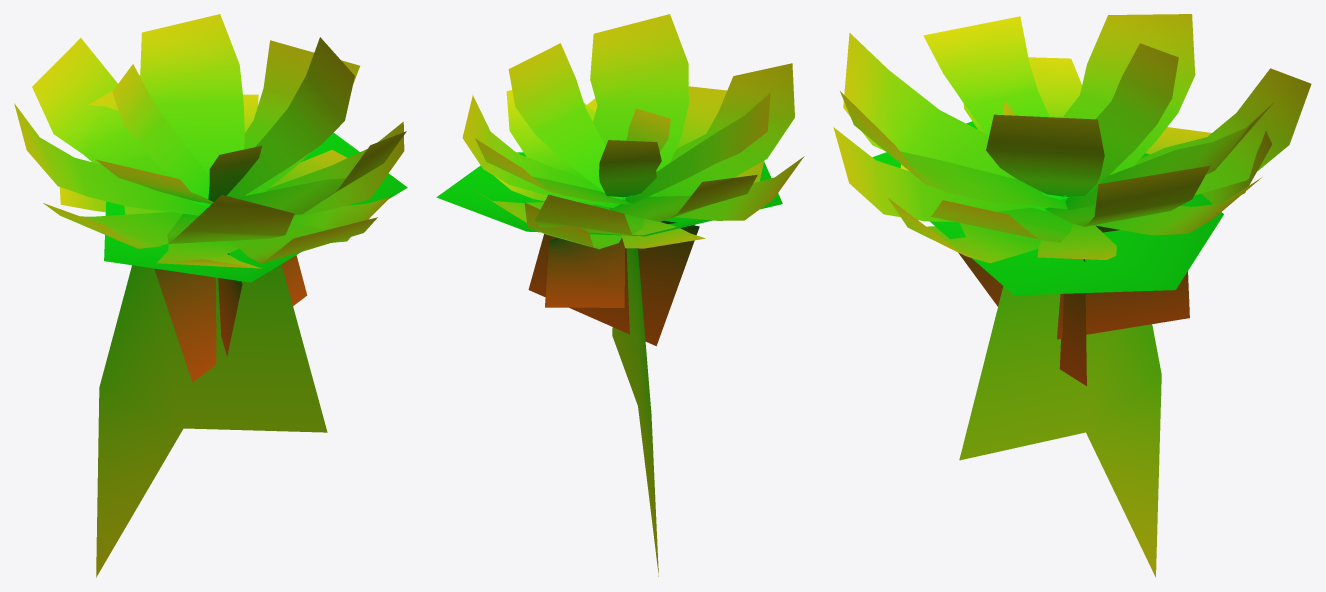
The model's file is Water Cabbage_LOD1_Var5_sjdlV.fbx.
3 views of the same model, side by side, from view 1: azimuth 30°, elevation 25°; view 2: azimuth 150°, elevation 25°; view 3: azimuth 270°, elevation 25° (orthographic). The views are drawn at different scales.
Visible parts, largest first — view 1: _29ac_Var5_LOD1; view 2: _29ac_Var5_LOD1; view 3: _29ac_Var5_LOD1.
Boxes of the visible parts, <box> form: _29ac_Var5_LOD1: <box>14,14,407,577</box>; _29ac_Var5_LOD1: <box>436,14,804,576</box>; _29ac_Var5_LOD1: <box>833,14,1311,577</box>.
Bounding box in the file's own units: 14.64 × 21.08 × 16.17.
